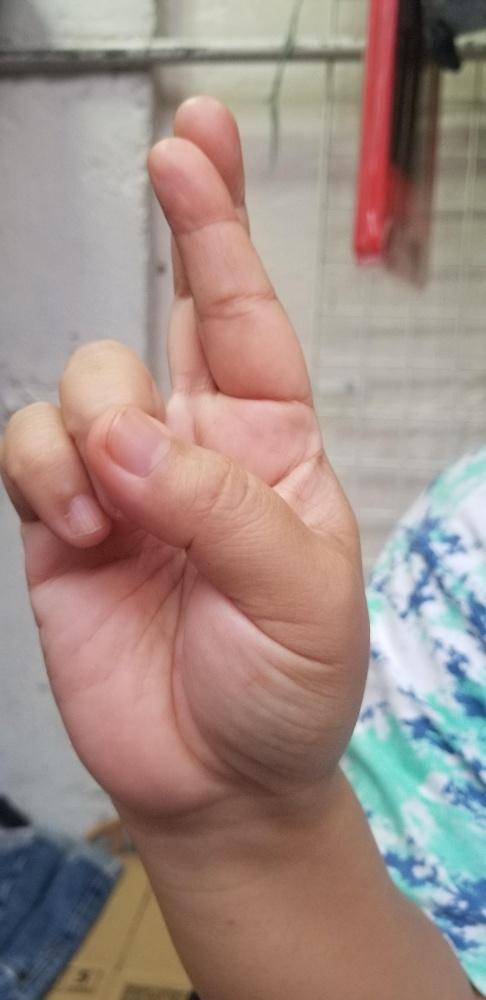r: (0, 90, 372, 813)
